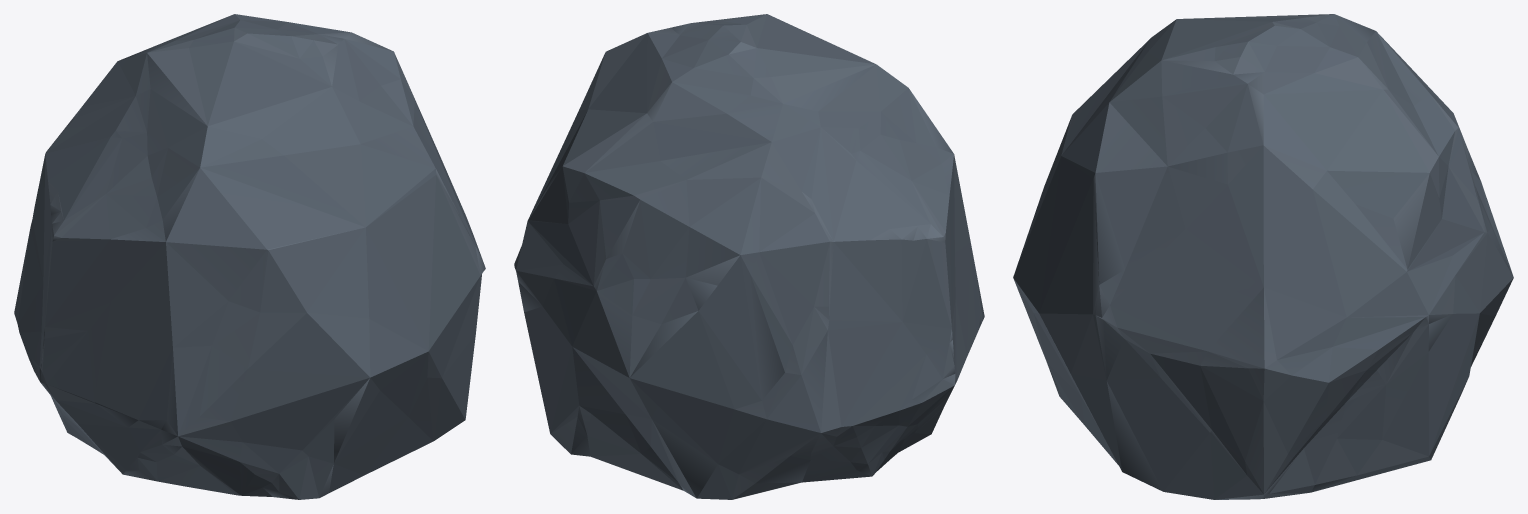
The model's file is boulder-round.glb.
The picture shows the model from 3 angles, left to right: view 1: azimuth 30°, elevation 25°; view 2: azimuth 150°, elevation 25°; view 3: azimuth 270°, elevation 25°; orthographic projection. The views are drawn at different scales.
Parts seen in each view (by area): view 1: boulder-round; view 2: boulder-round; view 3: boulder-round.
Boxes of the visible parts, x1,y1,x2,y2 form: boulder-round: (14,14,485,499); boulder-round: (514,14,984,499); boulder-round: (1013,14,1513,499).
Size of the model in its own units: 1.62 by 1.39 by 1.62.
